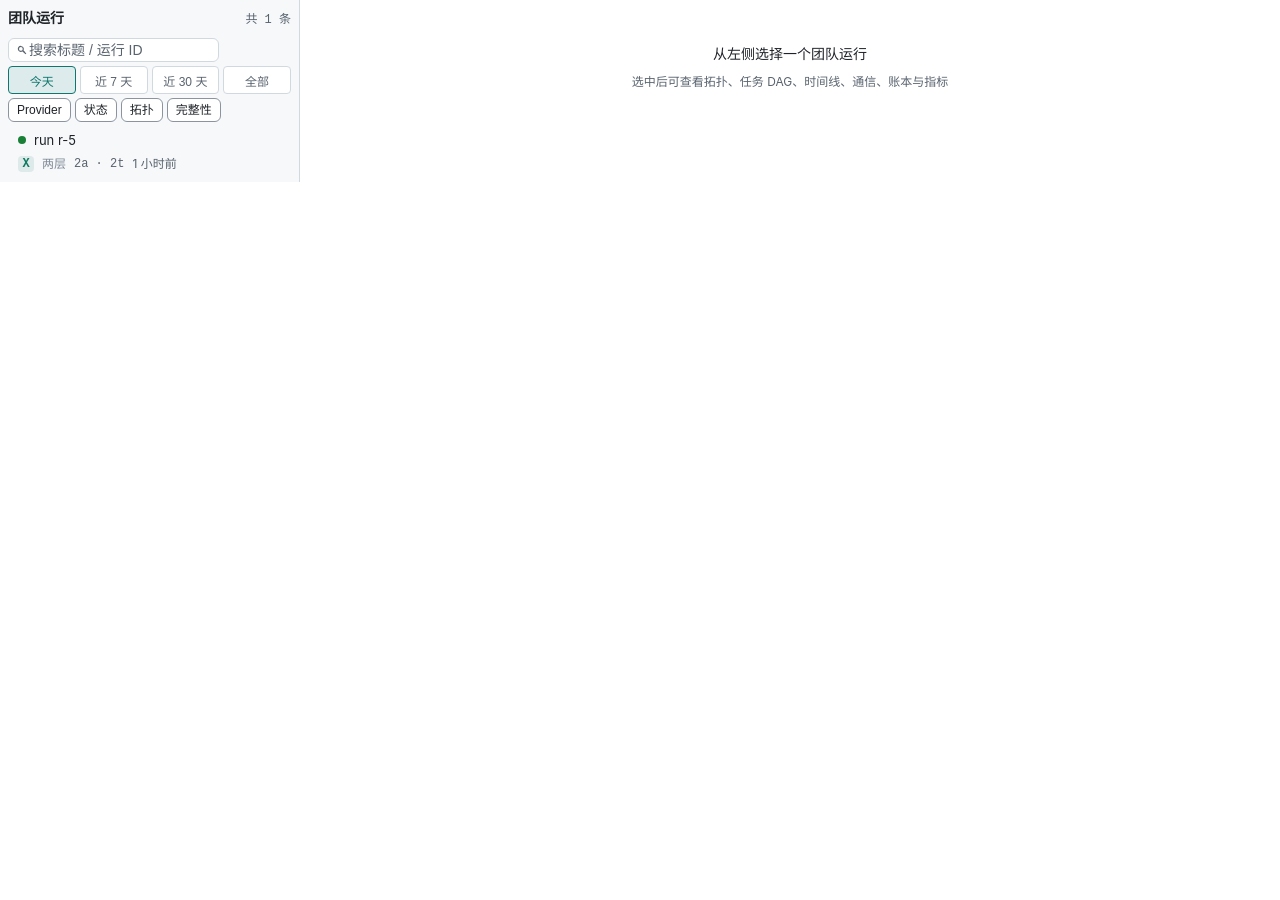
Test case: TeamShell 七视图切换 › keeps unavailable communication distinct from measured zero in the summary and retains folded source metadata
Click the option with class "team-row" at (55, 140), box [18, 132, 177, 172]
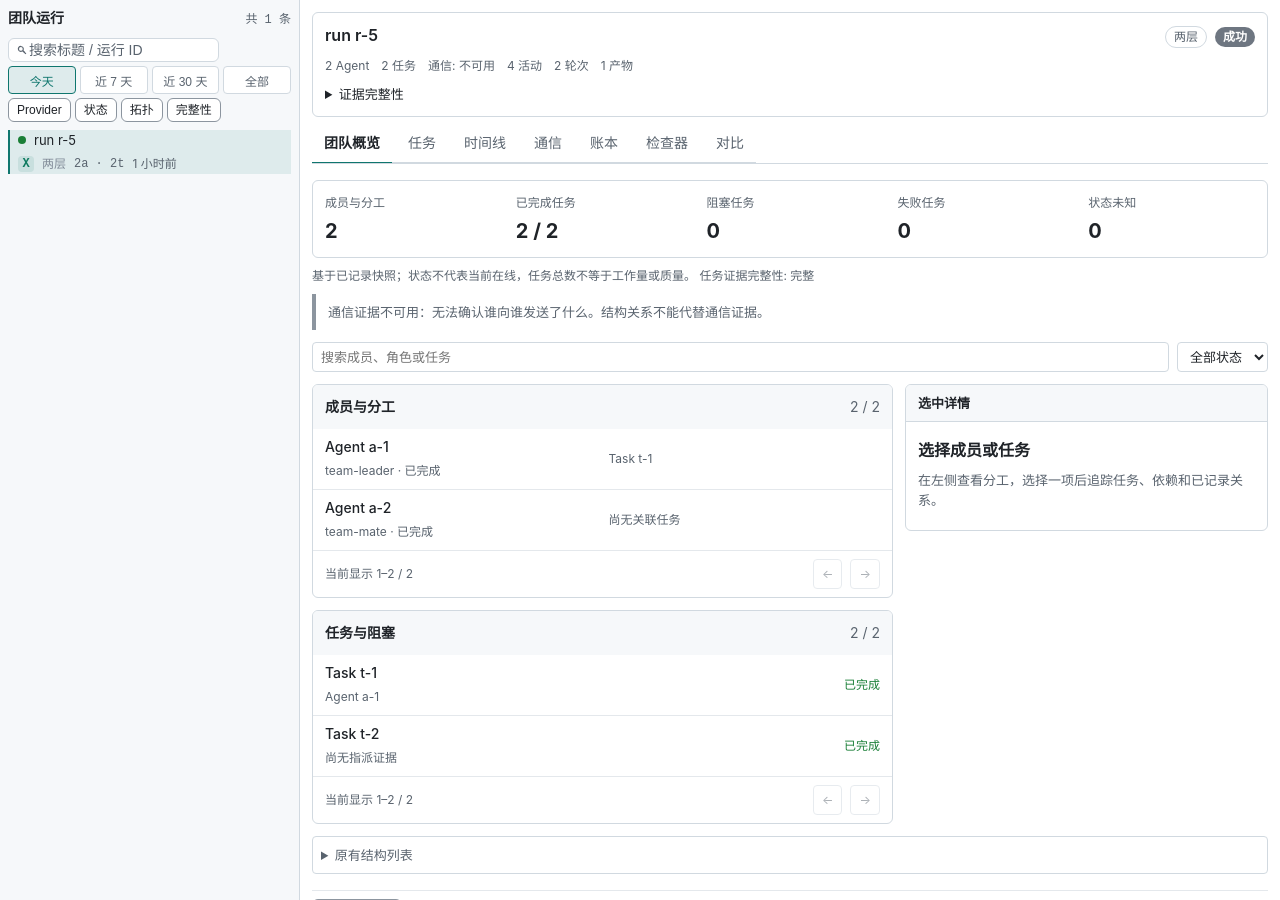
Now the element with class "team-summary-meta" shows "通信: 不可用", box [325, 58, 633, 73]
